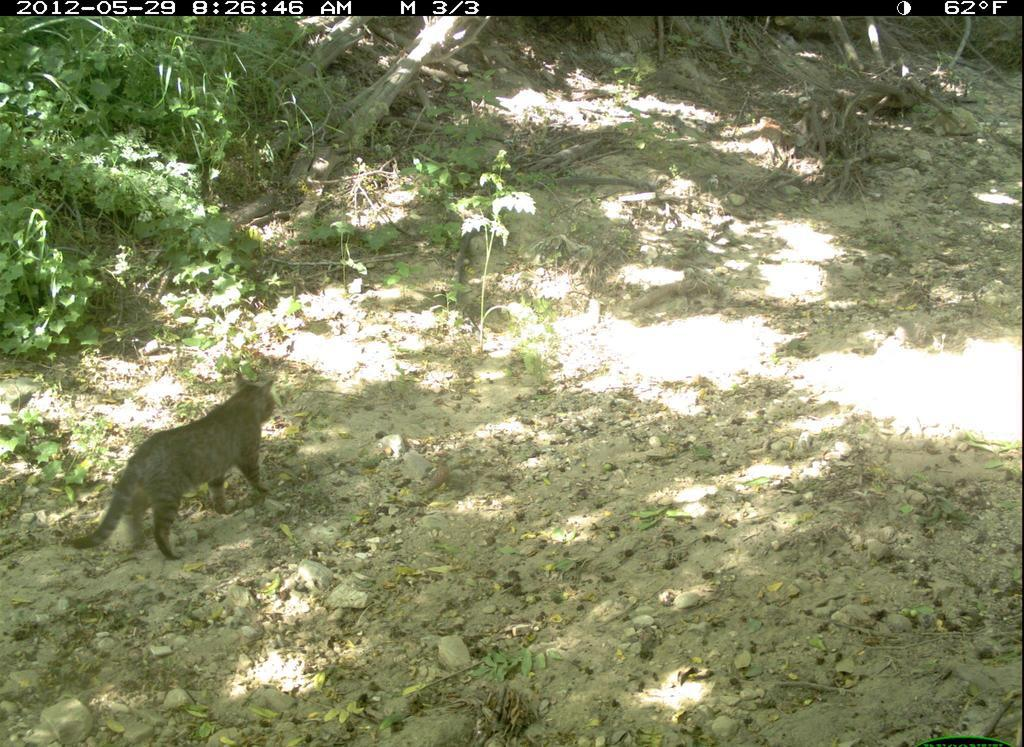cat: (54, 363, 312, 566)
